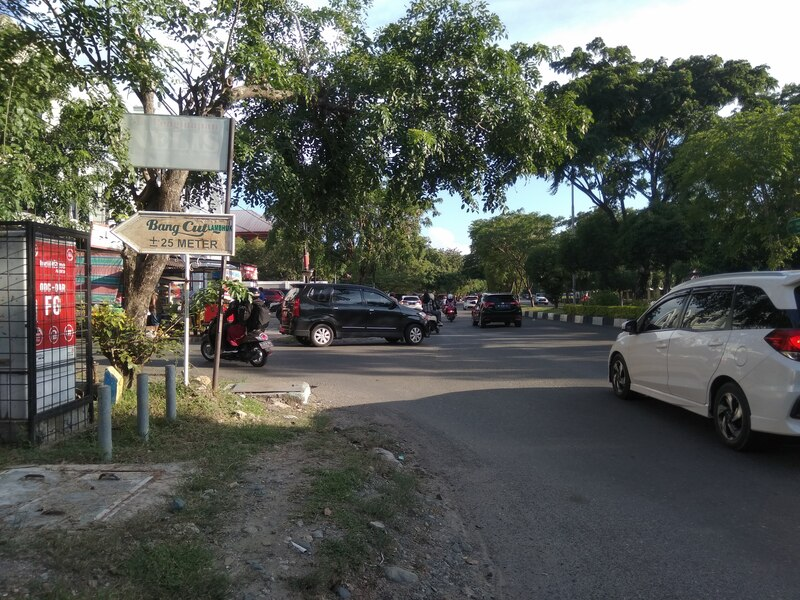car: (605, 266, 798, 471), (281, 279, 447, 349), (471, 290, 525, 332)
motorcycle: (195, 310, 279, 366)
